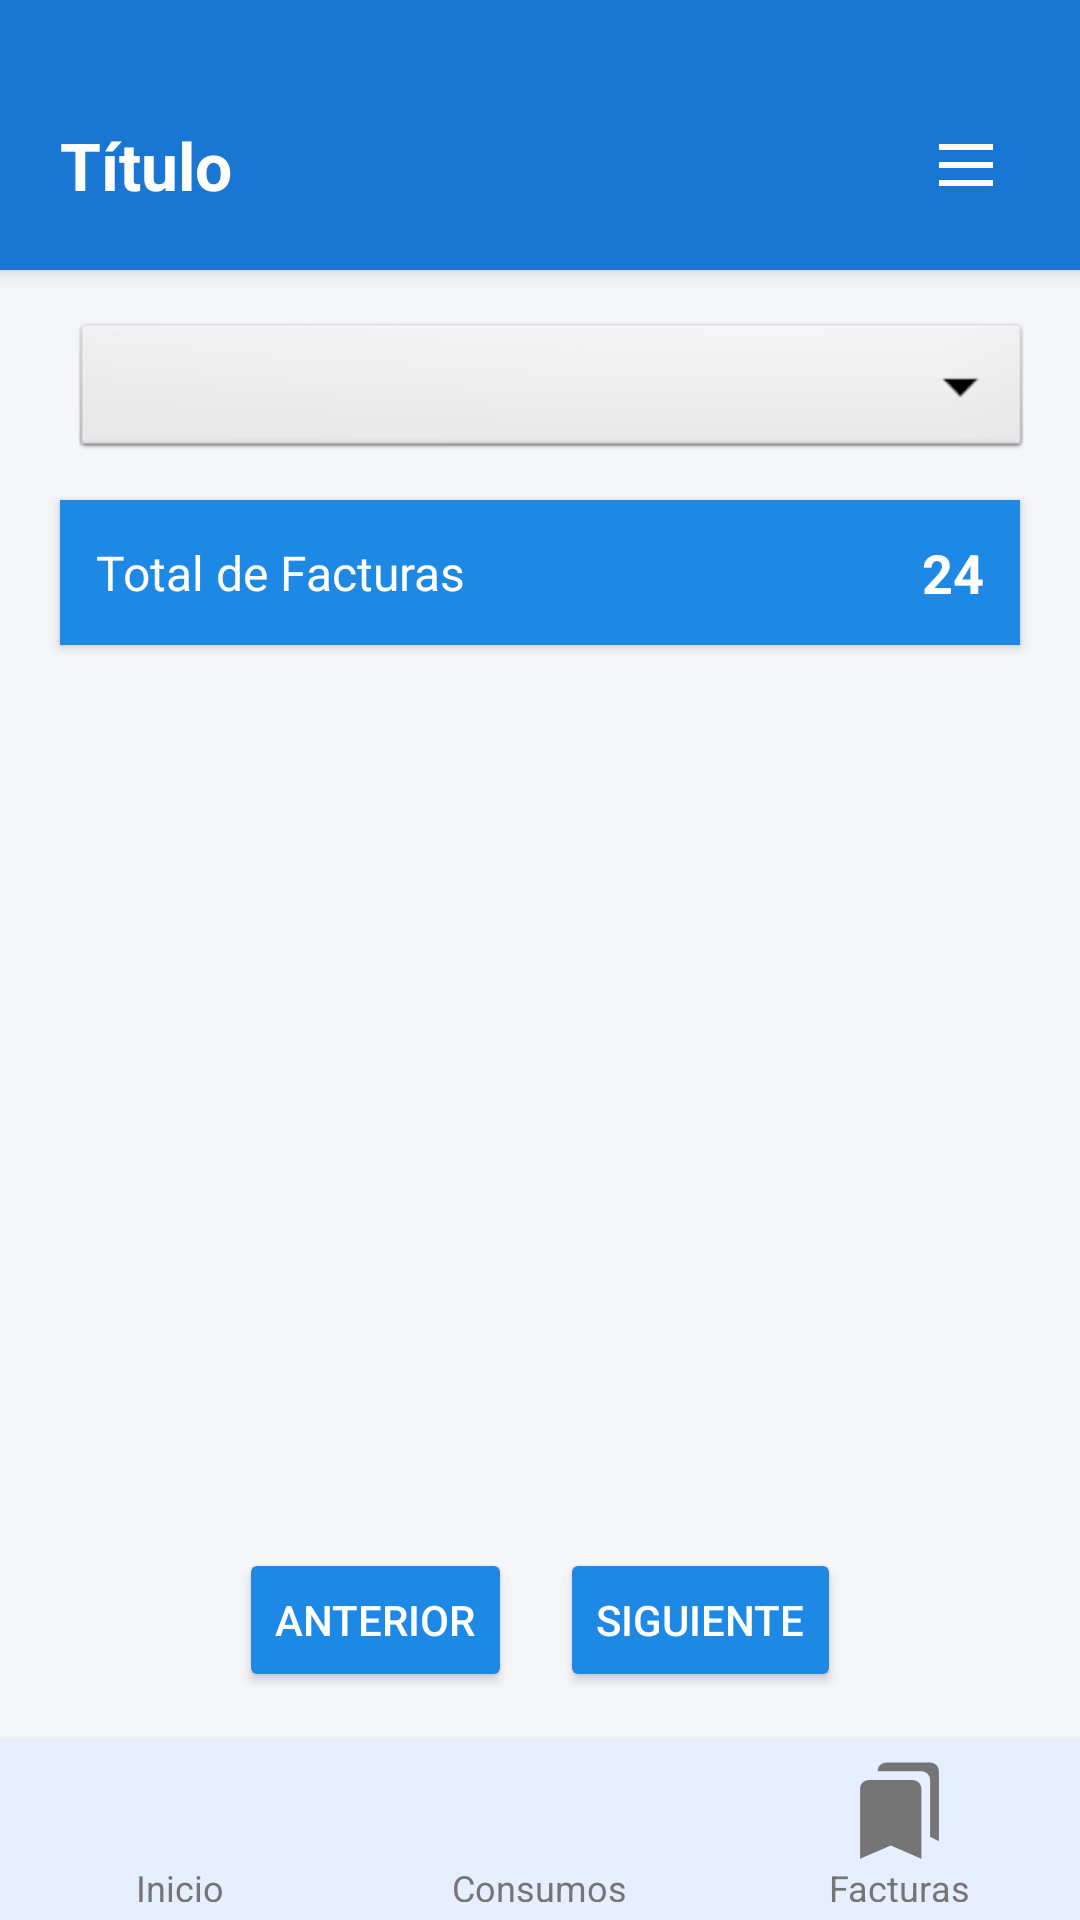

Named icons in this screenshot (1080×1920) and their centers, [x,y]:
dash recibos: [899,1810]
Menú principal: [966,165]
